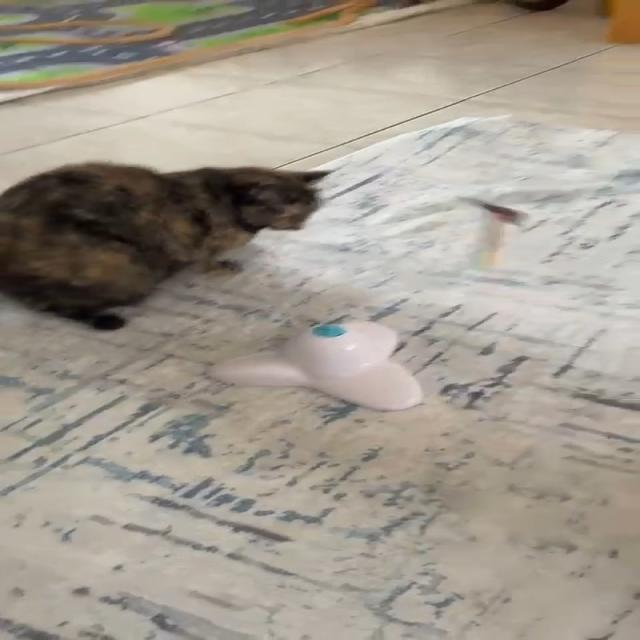authorized: (0, 159, 335, 331)
